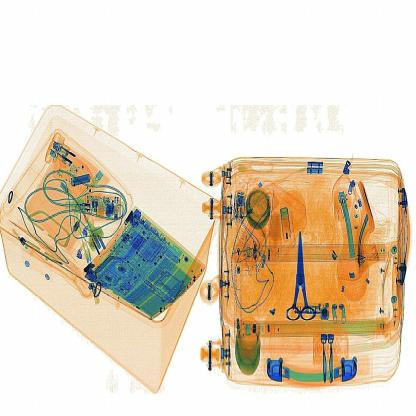gun: (286, 220, 322, 326)
